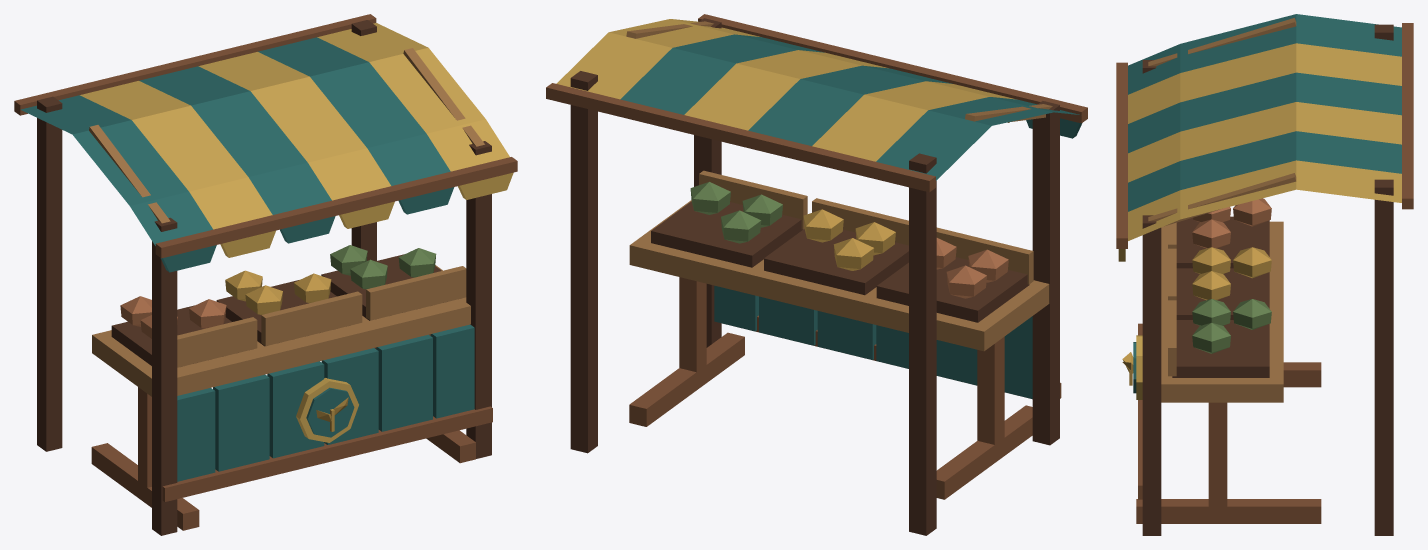
The model's file is market-stall-b.glb.
3 views of the same model, side by side, from view 1: azimuth 30°, elevation 25°; view 2: azimuth 150°, elevation 25°; view 3: azimuth 270°, elevation 25° (orthographic). The views are drawn at different scales.
Visible parts, largest first — view 1: market-stall-b; view 2: market-stall-b; view 3: market-stall-b.
Boxes of the visible parts, x1,y1,x2,y2 form: market-stall-b: (14,14,517,535); market-stall-b: (546,14,1087,535); market-stall-b: (1116,14,1413,535).
Bounding box in the file's own units: 2.65 × 2.51 × 1.89.
